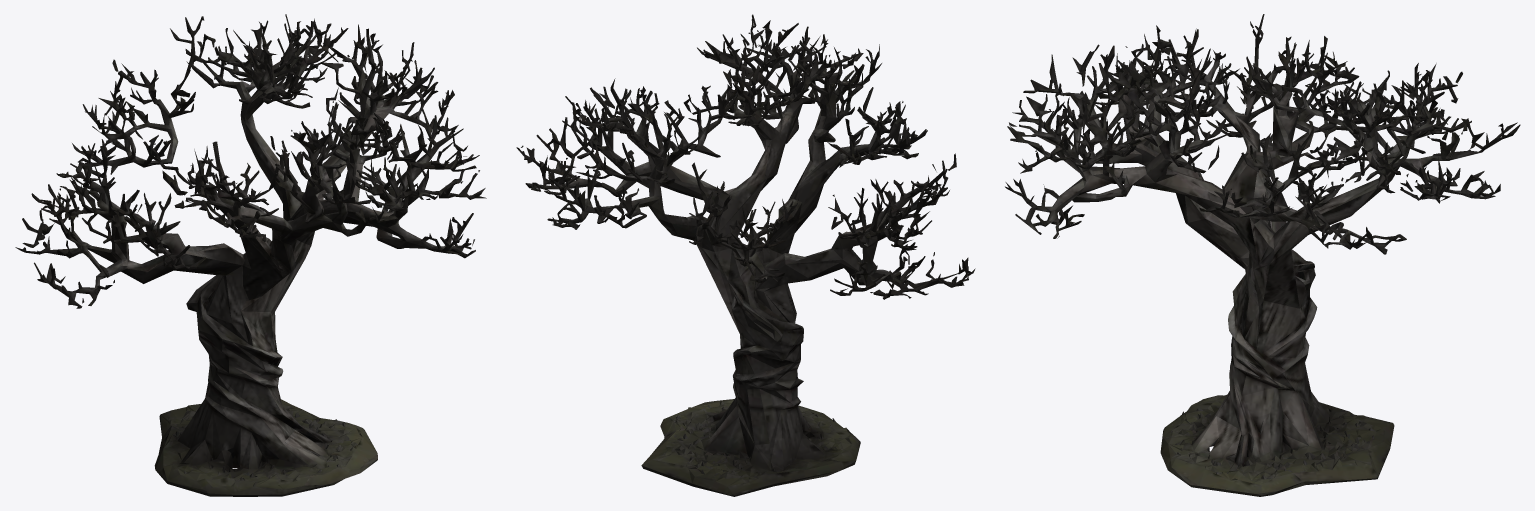
Rendered from char_dead_tree_01.glb.
The picture shows the model from 3 angles, left to right: view 1: azimuth 30°, elevation 25°; view 2: azimuth 150°, elevation 25°; view 3: azimuth 270°, elevation 25°; orthographic projection. The views are drawn at different scales.
Visible parts, largest first — view 1: geometry_0; view 2: geometry_0; view 3: geometry_0.
Part boxes in pixels (left/top/right/bottom): geometry_0: left=15, top=14, right=486, bottom=496; geometry_0: left=516, top=14, right=975, bottom=496; geometry_0: left=1005, top=14, right=1520, bottom=496.
Bounding box in the file's own units: 0.9988 × 0.8546 × 0.9936.
Materials: 1 (1 with a texture image).
